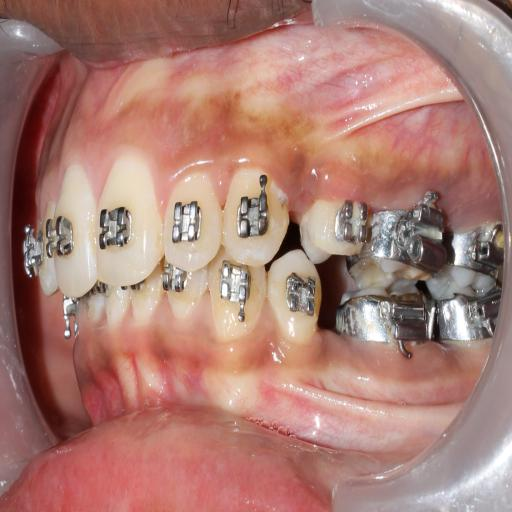correct_brace: (300, 200, 370, 258), (234, 174, 271, 240), (169, 194, 204, 250), (98, 202, 136, 252), (284, 271, 318, 326)
incorrect_brace: (162, 174, 221, 268), (334, 201, 366, 245)
